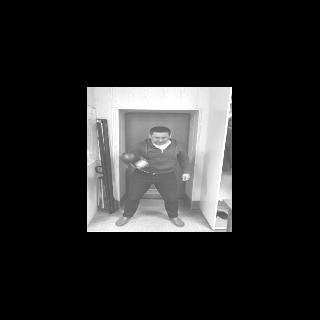kettlebell: (120, 151, 148, 168)
